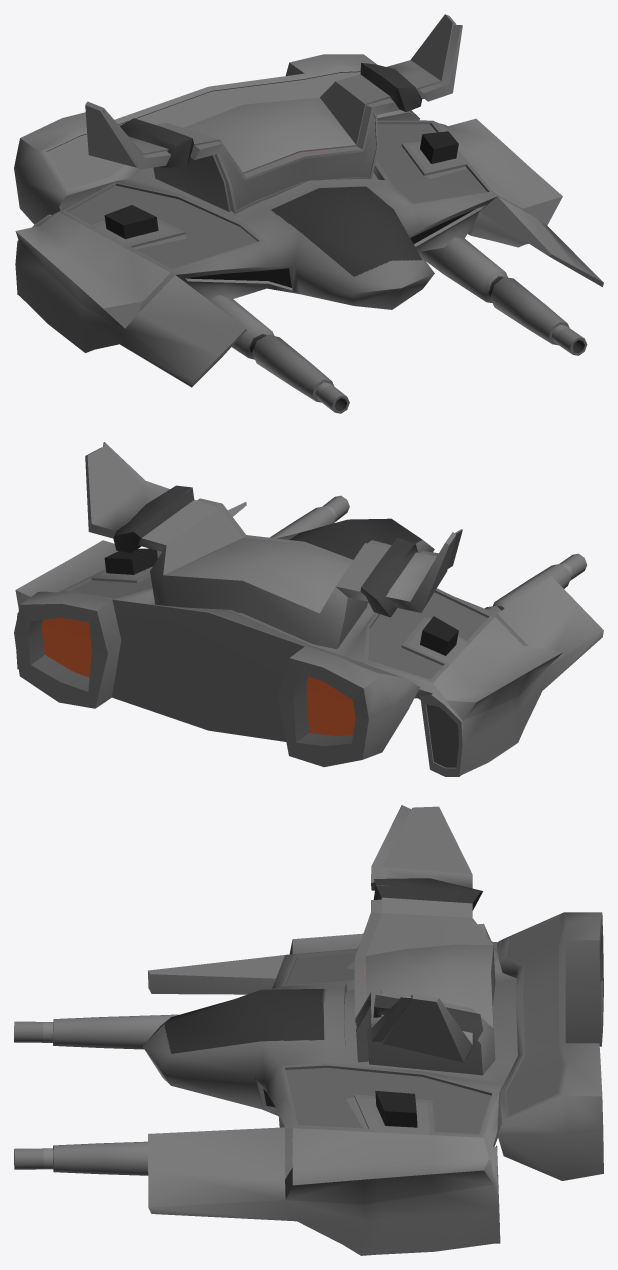
Rendered from episode_77_-_spaceship.glb.
3 views of the same model, one above another, from view 1: azimuth 30°, elevation 25°; view 2: azimuth 150°, elevation 25°; view 3: azimuth 270°, elevation 25° (orthographic). The views are drawn at different scales.
Parts seen in each view (by area): view 1: Spaceship; view 2: Spaceship; view 3: Spaceship.
Part boxes in pixels (x1,y1,x2,y2): Spaceship: [14, 14, 603, 413]; Spaceship: [14, 442, 603, 776]; Spaceship: [14, 805, 603, 1255].
Size of the model in its own units: 9.78 by 4.42 by 9.89.
1 material, 1 textured.
